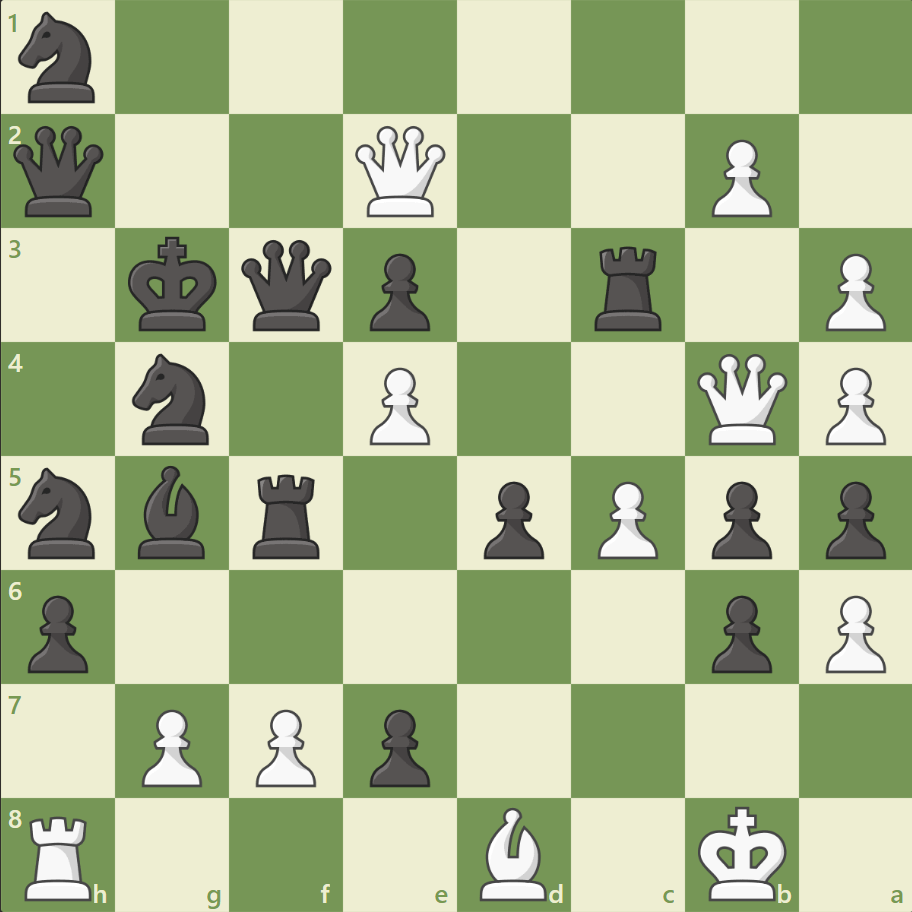B: (471, 801, 555, 904)
K: (692, 798, 792, 906)
P: (247, 700, 322, 791), (133, 700, 208, 791), (701, 132, 776, 223), (815, 586, 889, 677), (588, 473, 662, 564), (815, 359, 889, 450), (361, 359, 435, 450), (815, 246, 889, 337)
Q: (691, 349, 790, 449), (351, 122, 450, 222)
R: (19, 806, 102, 904)
b: (131, 460, 215, 563)
k: (124, 231, 224, 339)
n: (124, 348, 222, 450), (11, 461, 108, 564), (11, 7, 108, 110)
p: (701, 586, 776, 677), (20, 586, 95, 677), (701, 473, 776, 564), (474, 473, 549, 564), (361, 700, 435, 791), (815, 473, 889, 564), (361, 246, 435, 337)
q: (10, 122, 109, 222), (237, 236, 336, 335)
r: (246, 466, 329, 563), (587, 239, 670, 336)
